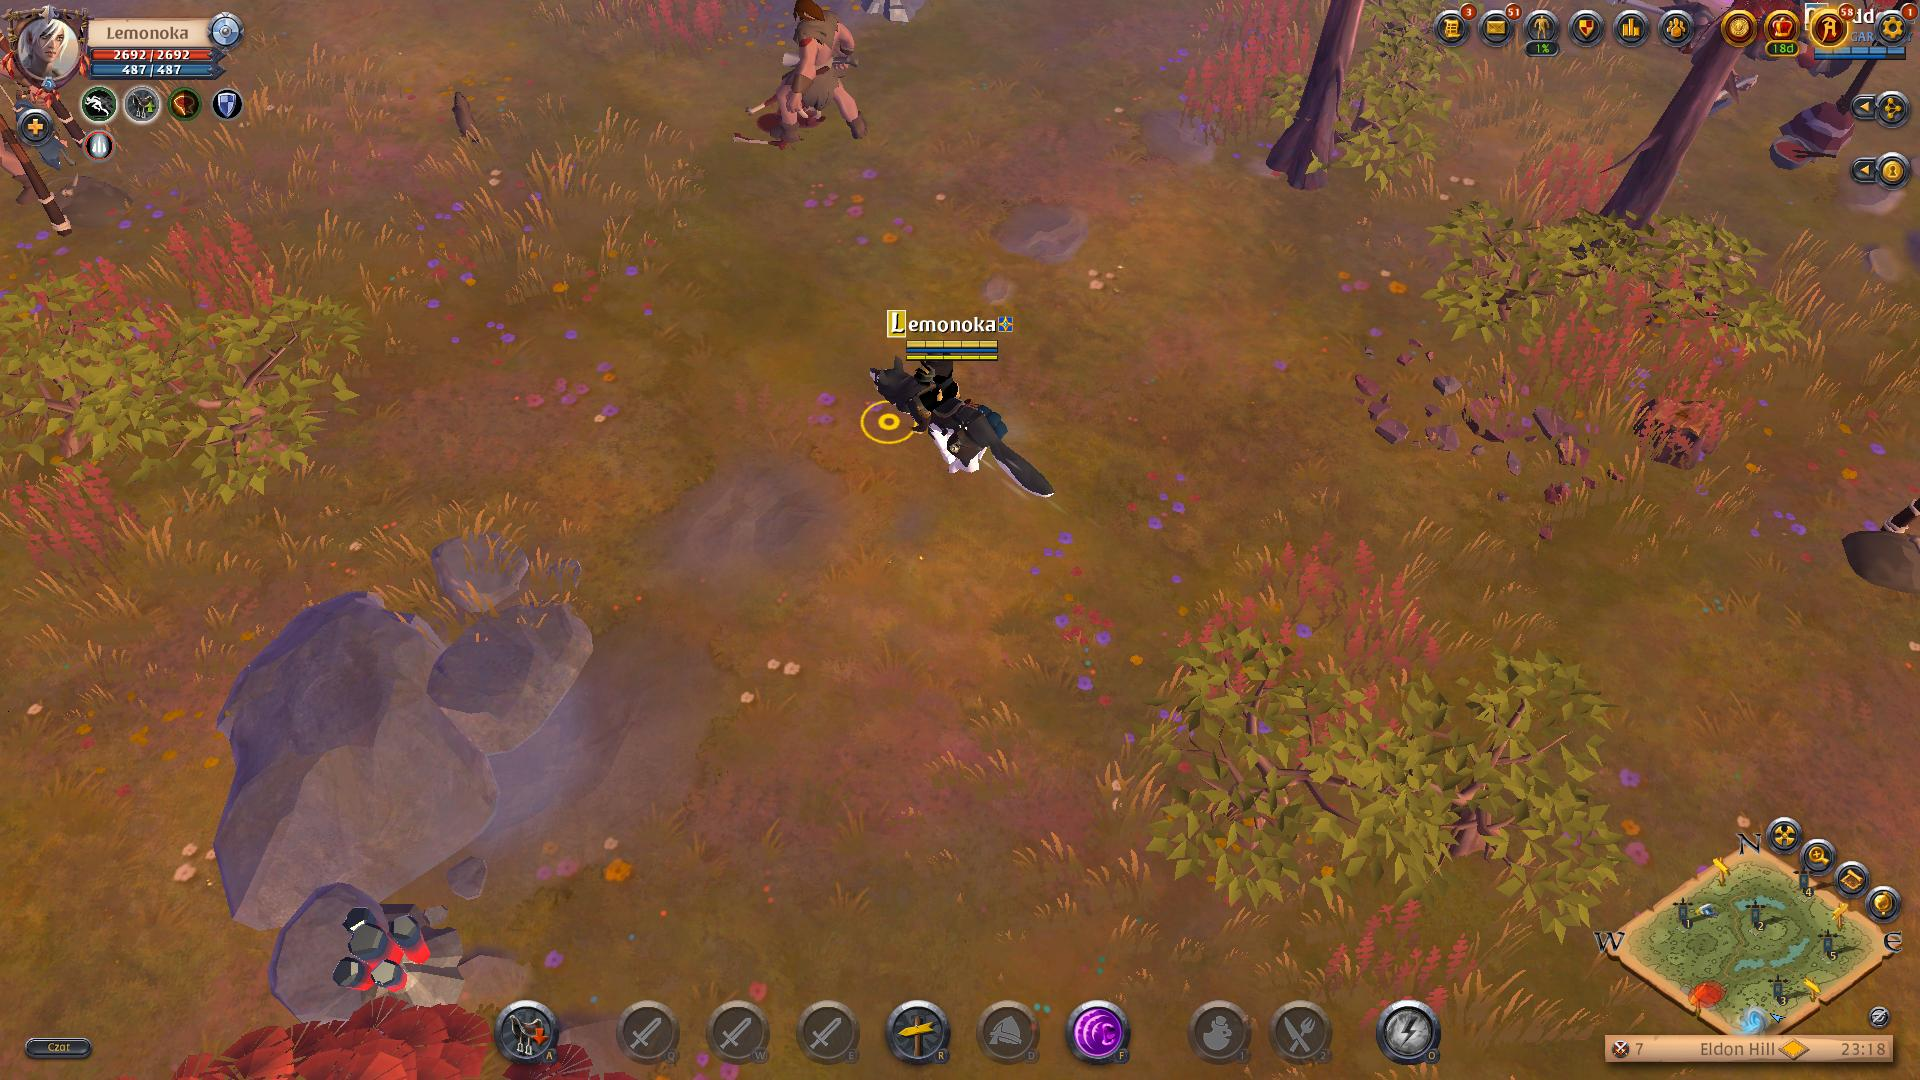ore tier 5: (322, 893, 469, 1029)
